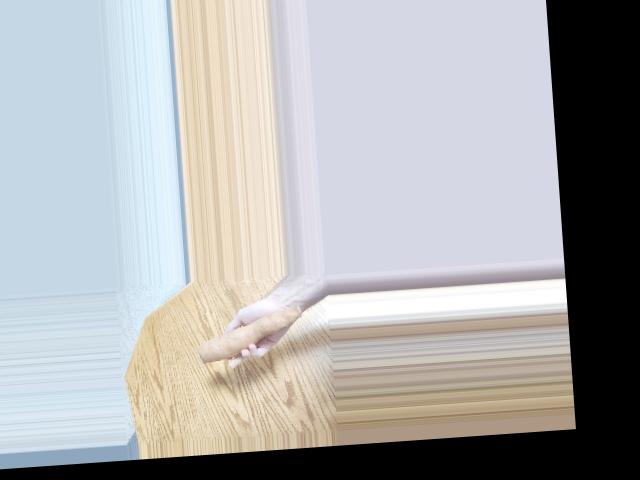sweet_potato: (195, 302, 308, 365)
